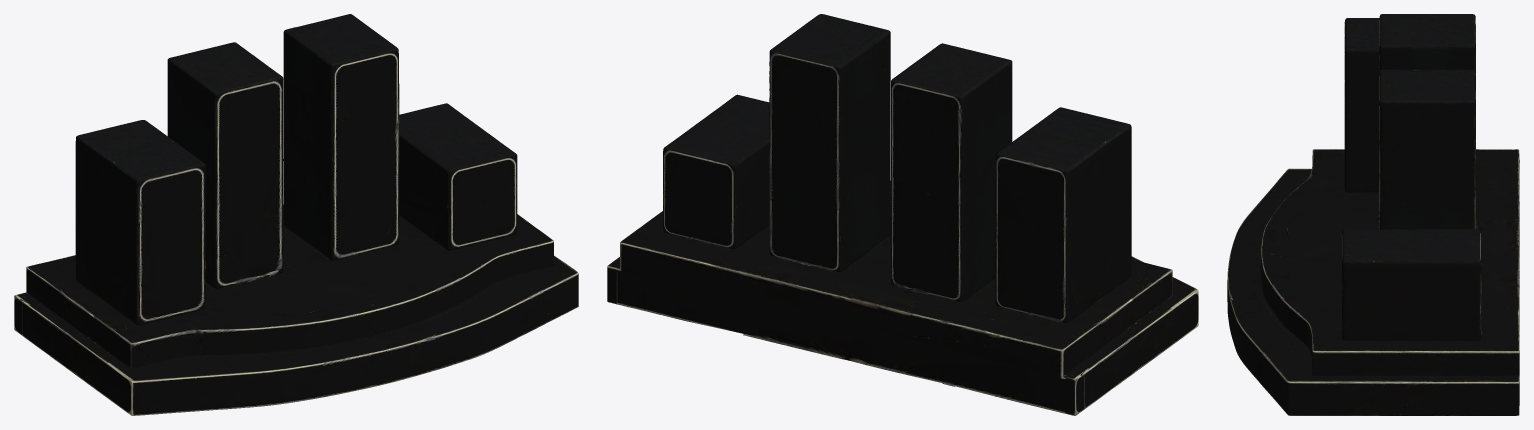
The model's file is board.glb.
The picture shows the model from 3 angles, left to right: view 1: azimuth 30°, elevation 25°; view 2: azimuth 150°, elevation 25°; view 3: azimuth 270°, elevation 25°; orthographic projection. The views are drawn at different scales.
Bounding box in the file's own units: 1.9 × 1.04 × 1.1.
Materials: 1 (1 with a texture image).
